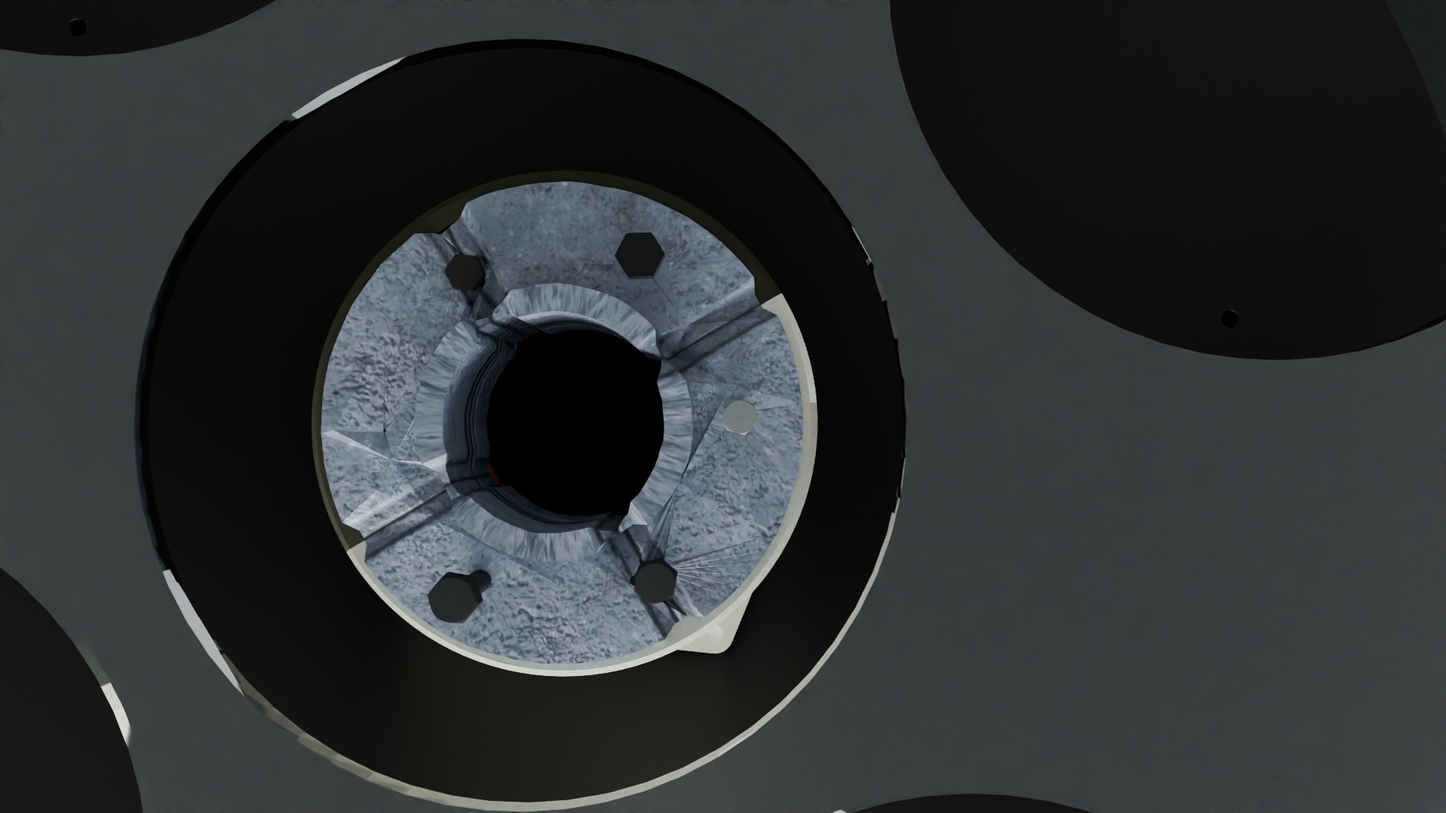bolt: (428, 574, 479, 623), (615, 233, 665, 277), (634, 560, 677, 604), (444, 254, 484, 290), (722, 398, 758, 435)
